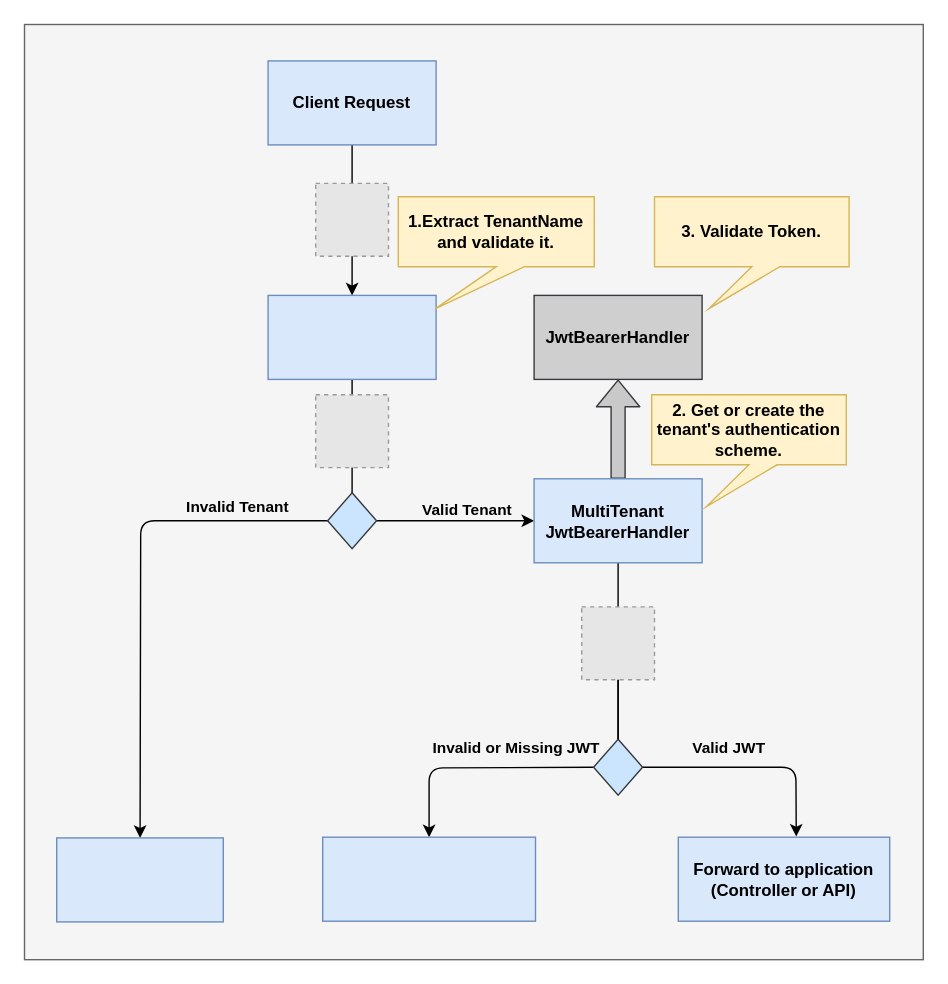
The diagram is 948 pixels wide and 984 high, and some of its shapes have lost their labels. Grey dashed boxes stand in for pictures. The centre of each missing label's shape, as x and y in pixels:
"Return 400 Bad Request" goes at pixel 139 879.
"Return 401 Unauthorized / Redirect to Login Page" goes at pixel 428 878.
"TenantName Middleware" goes at pixel 351 336.
